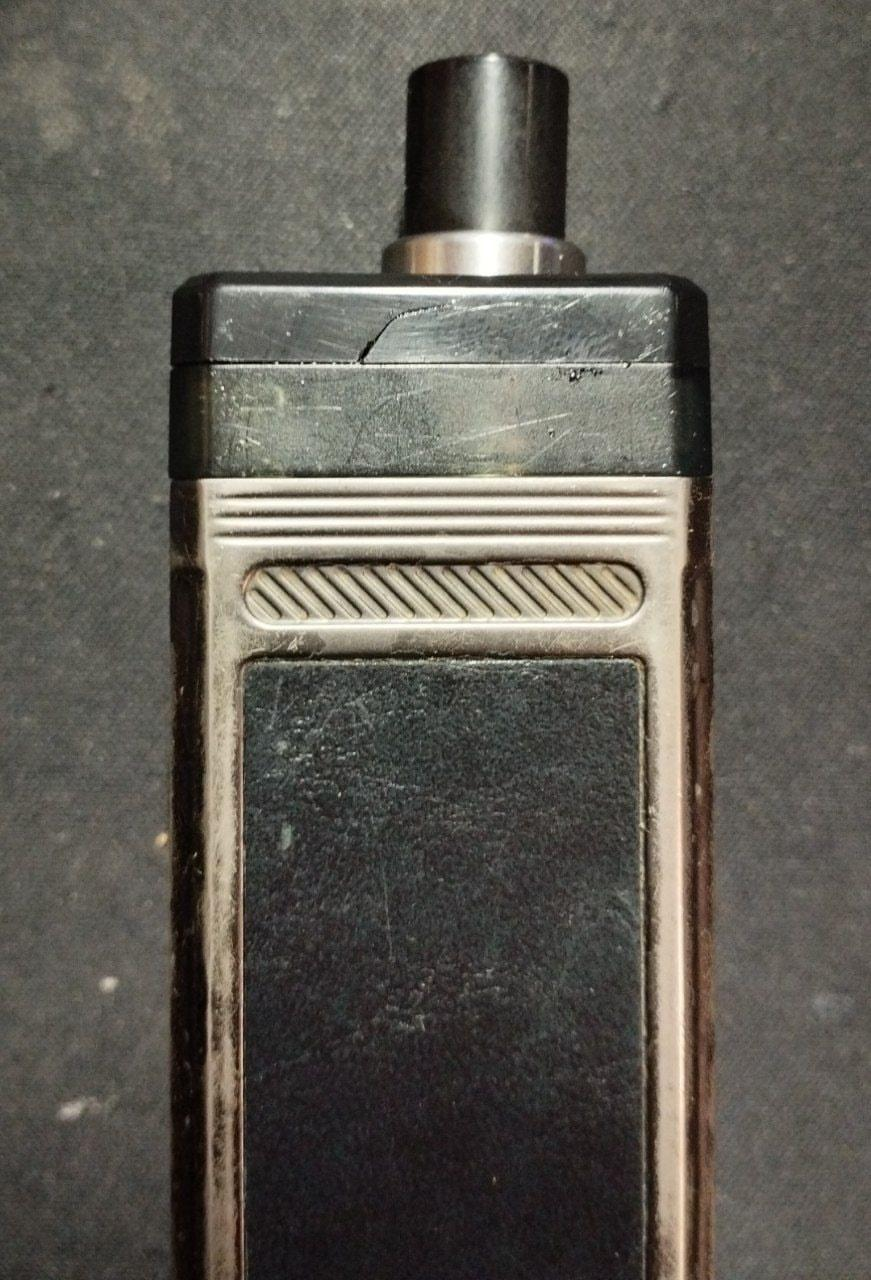Vape: (170, 53, 711, 1279)
